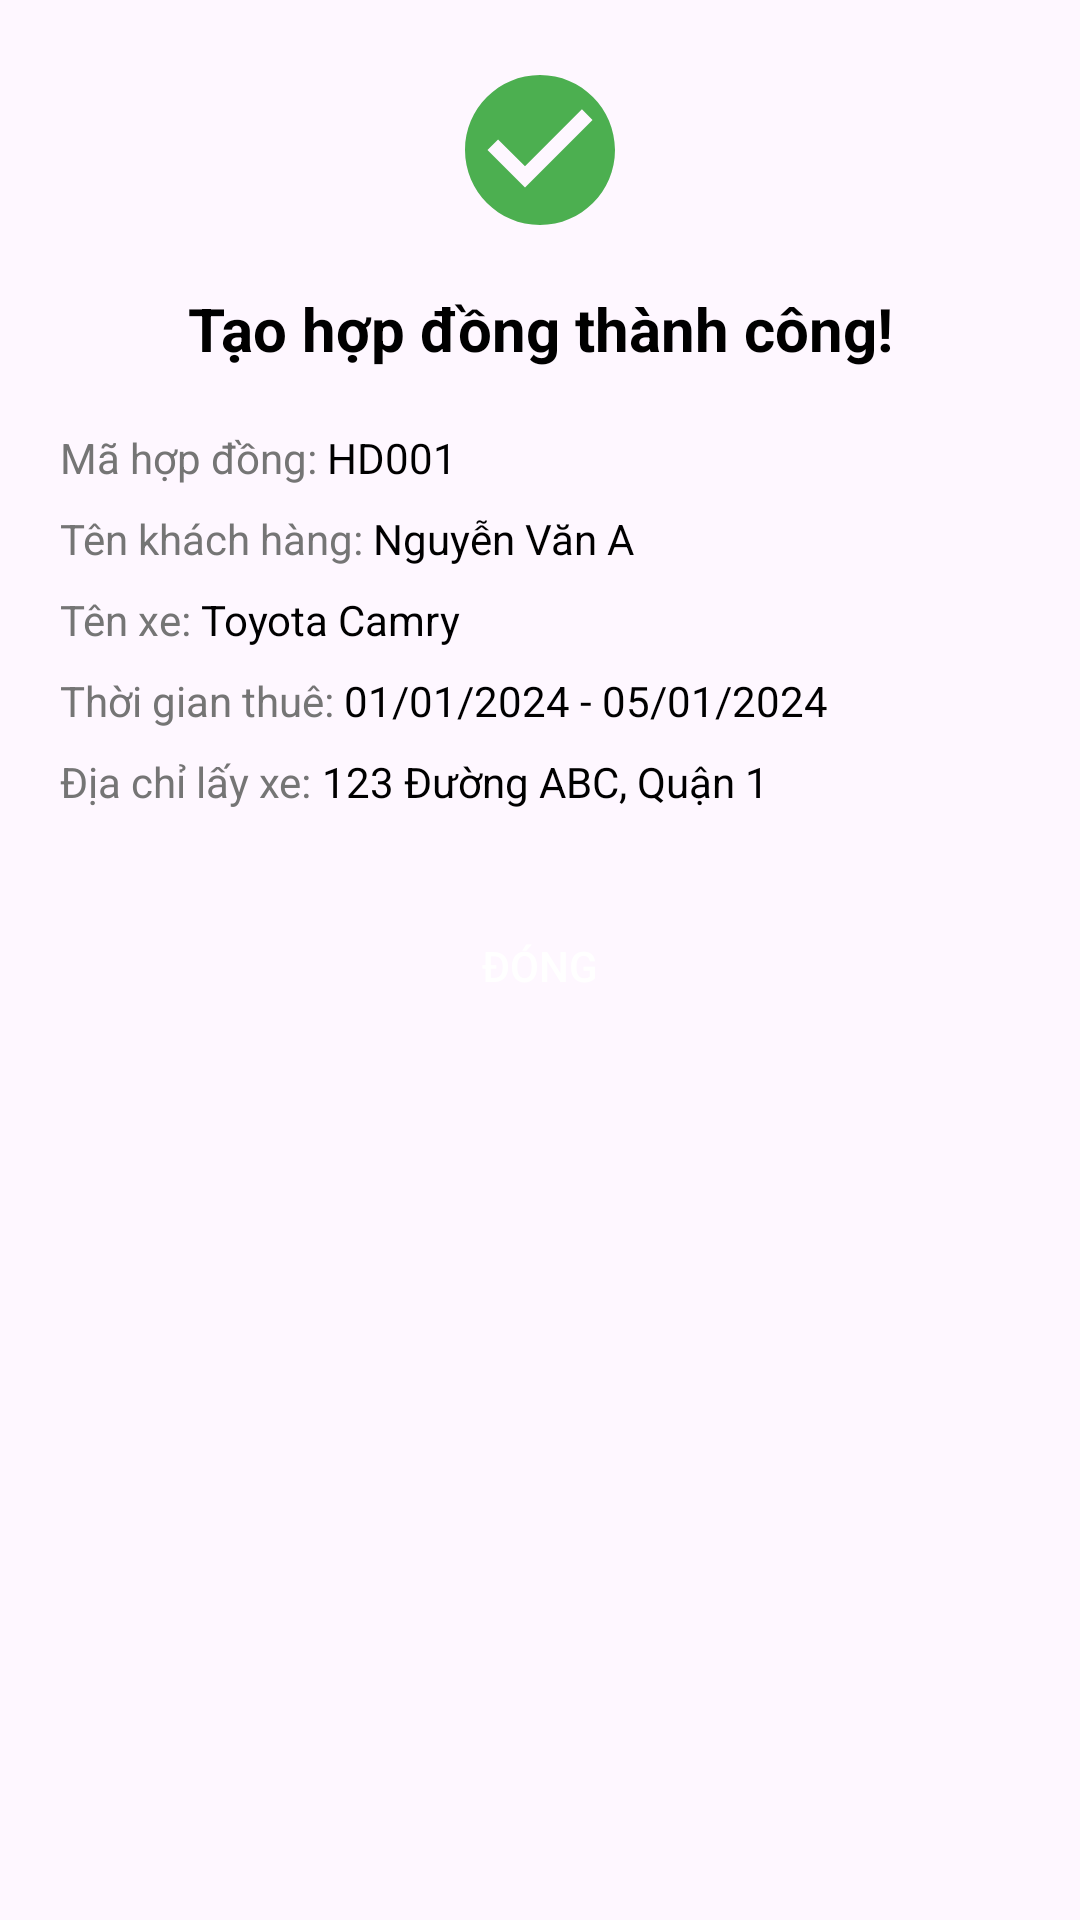

Icon click points for this 1080px x 1920px phone screenshot, format (x=x, y=y):
success check: (x=540, y=150)
